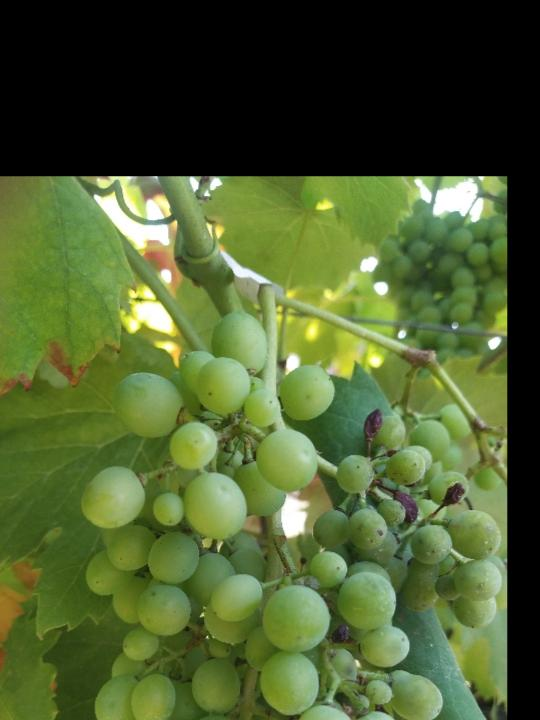grape: (78, 304, 501, 720)
